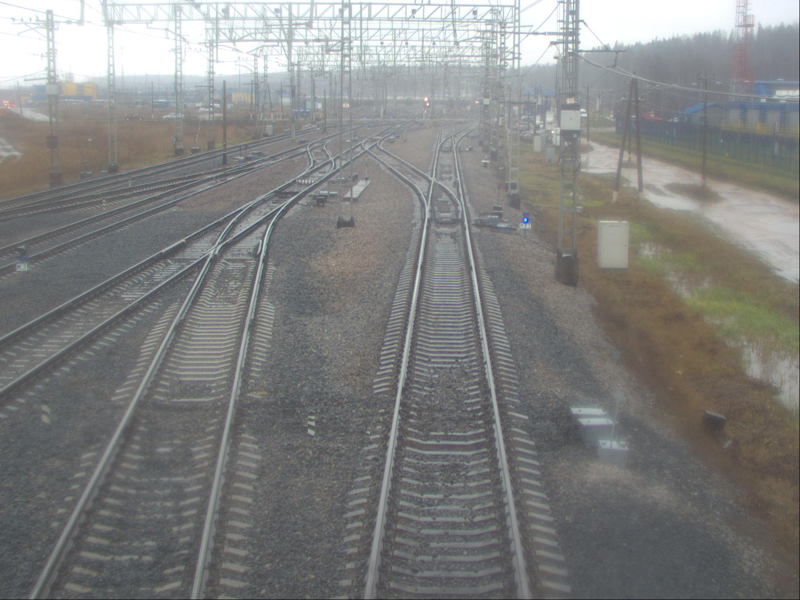railway_arrows: (422, 178, 466, 225)
